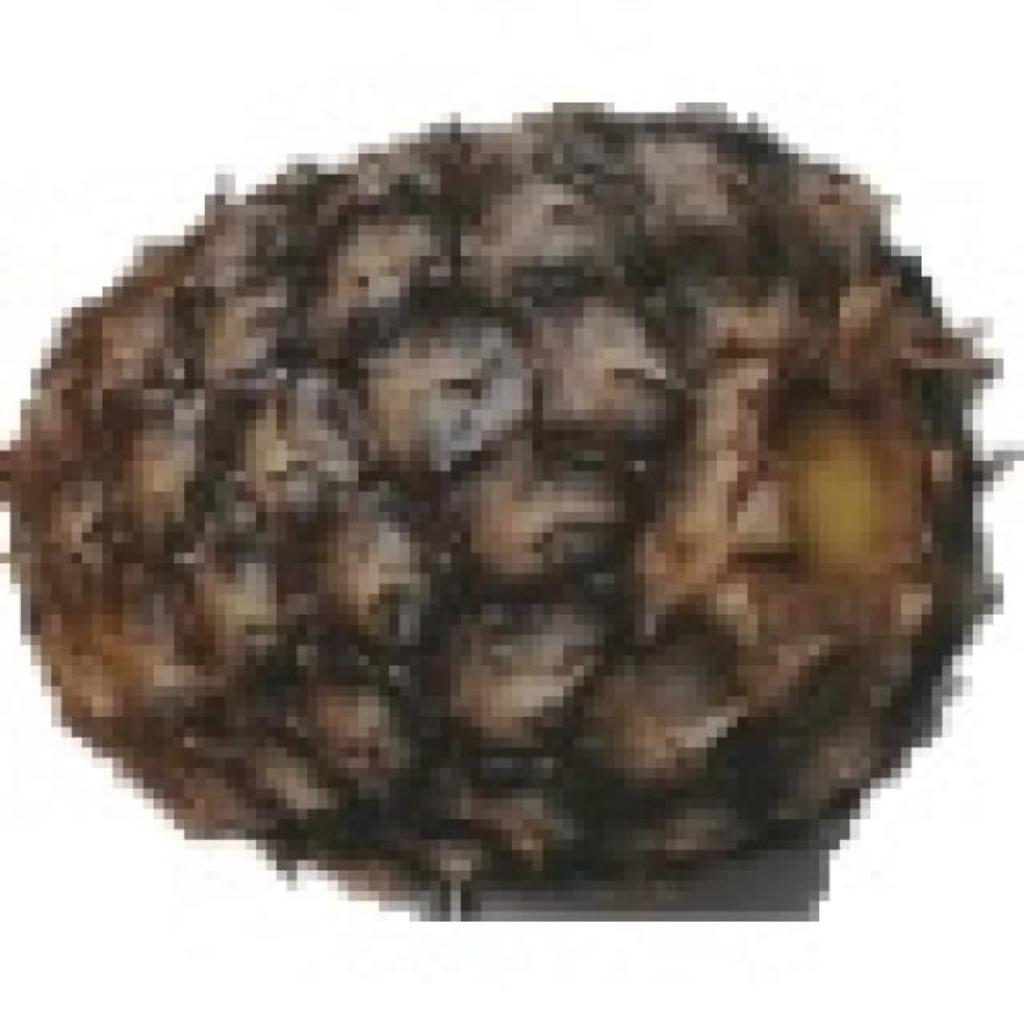pineapple: (0, 92, 973, 891)
